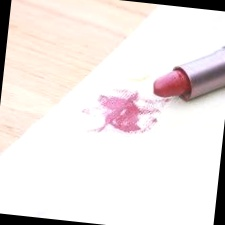lipstick: (77, 86, 170, 145)
